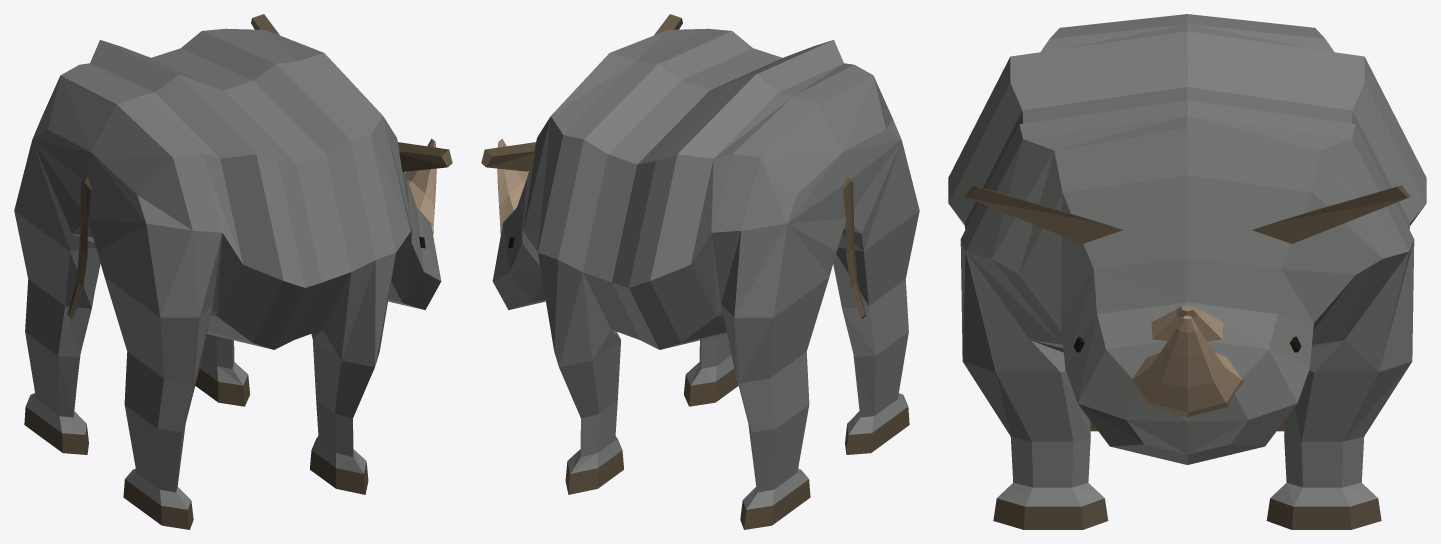
Rendered from white-rhino.glb.
The picture shows the model from 3 angles, left to right: view 1: azimuth 30°, elevation 25°; view 2: azimuth 150°, elevation 25°; view 3: azimuth 270°, elevation 25°; orthographic projection. The views are drawn at different scales.
Bounding box in the file's own units: 1 × 1 × 1.
